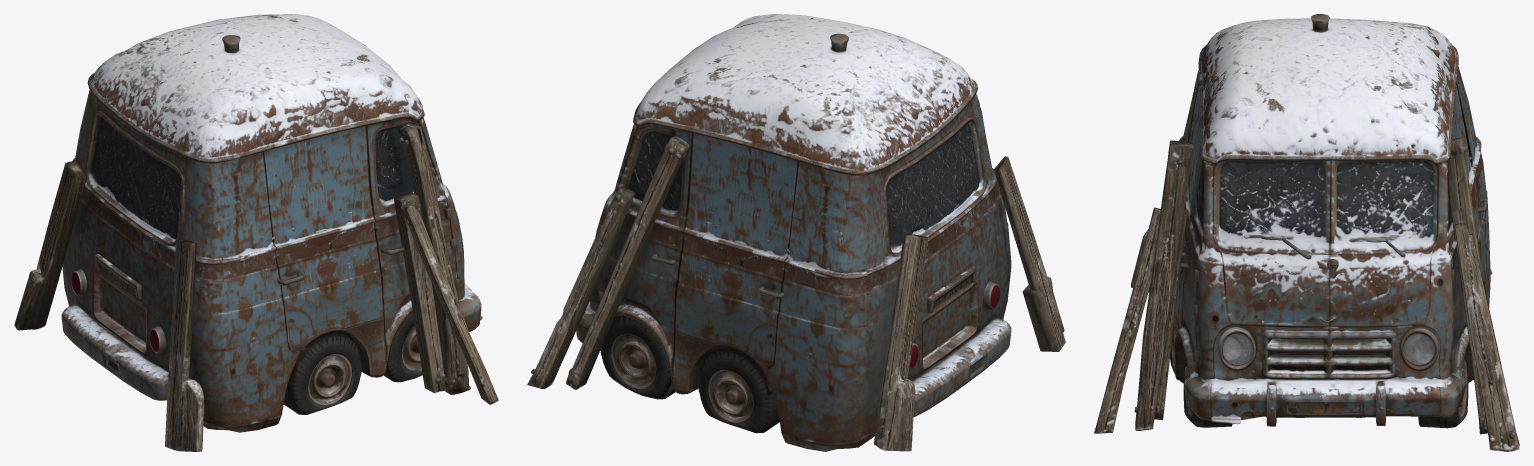
File: jt_van_b.glb
The picture shows the model from 3 angles, left to right: view 1: azimuth 30°, elevation 25°; view 2: azimuth 150°, elevation 25°; view 3: azimuth 270°, elevation 25°; orthographic projection. The views are drawn at different scales.
Parts seen in each view (by area): view 1: tripo_96b83944_0111_4f56_8375_31c7b7f62617; view 2: tripo_96b83944_0111_4f56_8375_31c7b7f62617; view 3: tripo_96b83944_0111_4f56_8375_31c7b7f62617.
Boxes of the visible parts, bbox=[...] form: tripo_96b83944_0111_4f56_8375_31c7b7f62617: bbox=[14, 14, 498, 451]; tripo_96b83944_0111_4f56_8375_31c7b7f62617: bbox=[527, 14, 1065, 451]; tripo_96b83944_0111_4f56_8375_31c7b7f62617: bbox=[1094, 14, 1519, 451].
Bounding box in the file's own units: 0.9829 × 0.8862 × 0.9995.
Materials: 1 (1 with a texture image).
